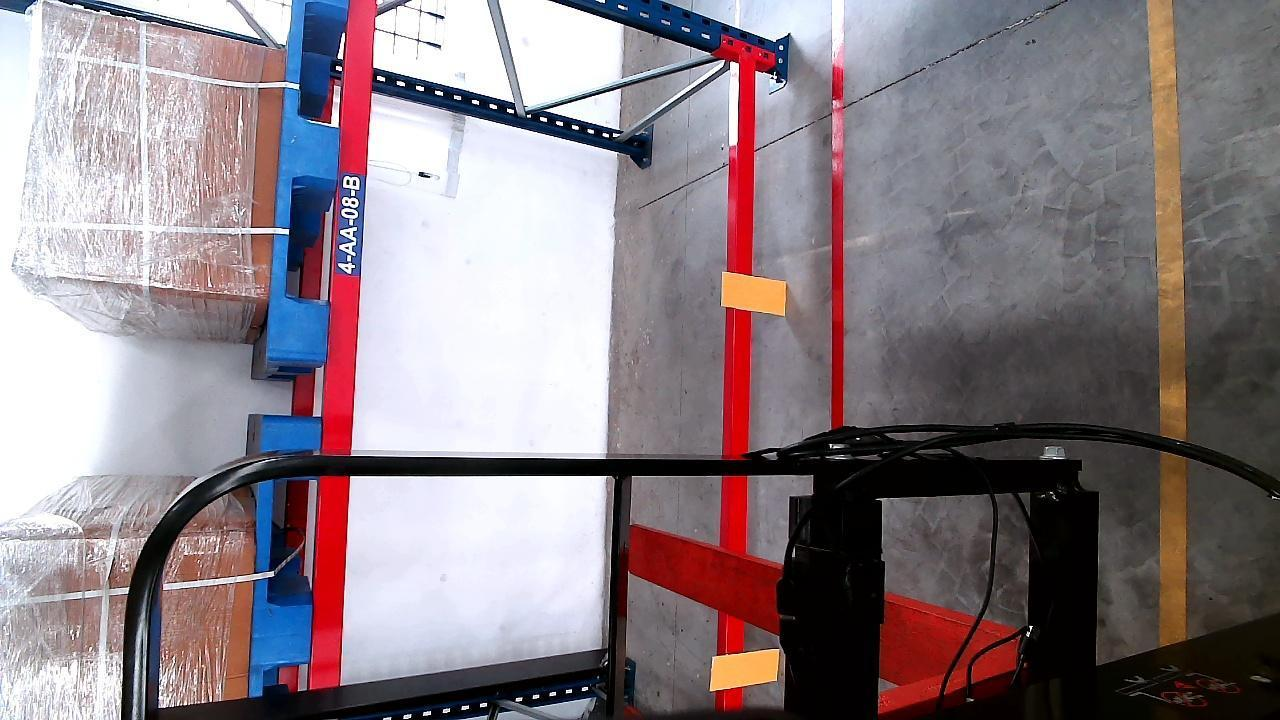h_rack: (317, 0, 373, 688), (718, 55, 760, 716)
orange_strip: (711, 647, 781, 690), (724, 273, 788, 312)
red_line: (825, 29, 850, 426)
small_pallet: (252, 415, 322, 688)
